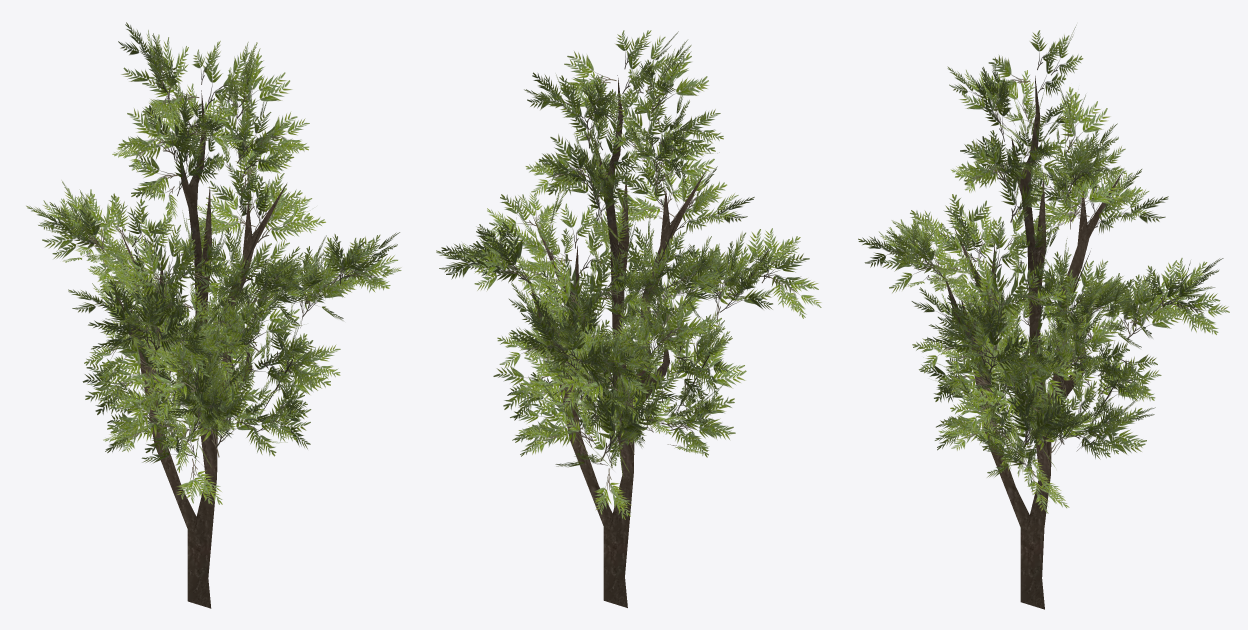
The model's file is tree-2.glb.
3 views of the same model, side by side, from view 1: azimuth 30°, elevation 25°; view 2: azimuth 150°, elevation 25°; view 3: azimuth 270°, elevation 25° (orthographic). The views are drawn at different scales.
Visible parts, largest first — view 1: leaves, bark; view 2: leaves, bark; view 3: leaves, bark.
Part boxes in pixels (left/top/right/bottom): leaves: left=26, top=22, right=401, bottom=504; bark: left=113, top=90, right=294, bottom=608; leaves: left=436, top=30, right=821, bottom=519; bark: left=527, top=75, right=769, bottom=607; leaves: left=858, top=25, right=1229, bottom=513; bark: left=944, top=76, right=1123, bottom=609.
Size of the model in its own units: 0.5933 by 1 by 0.6001.
2 materials, 2 textured.
